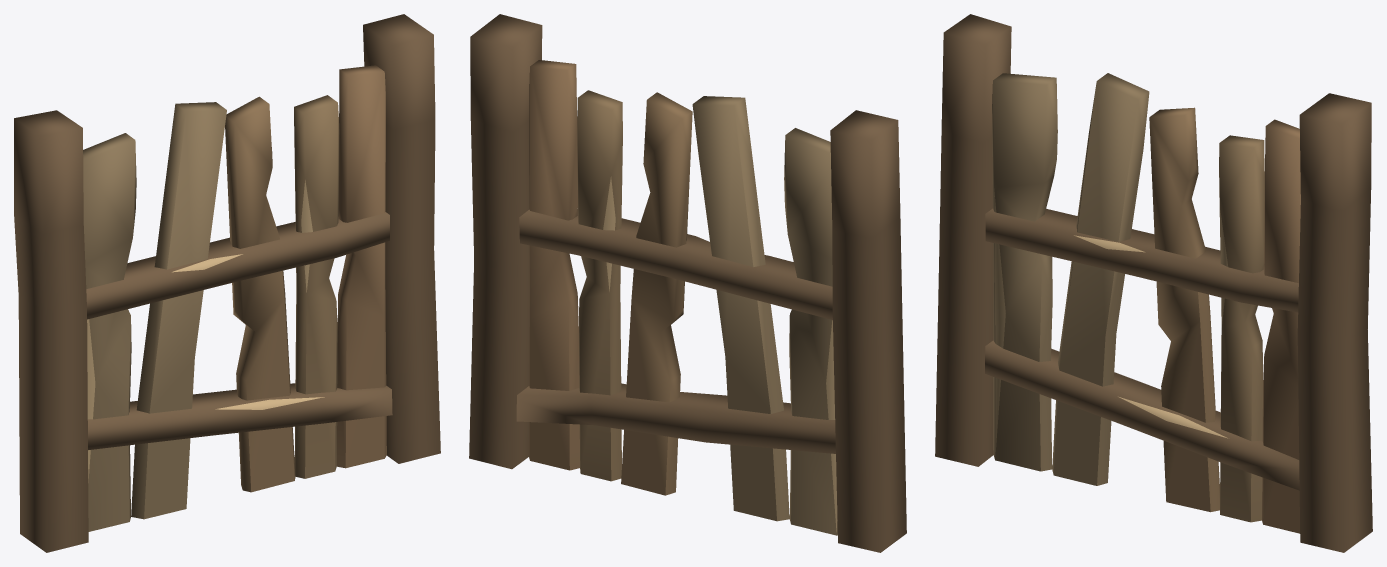
The model's file is rpgpp_av_fence_03c_2m.gltf.
3 views of the same model, side by side, from view 1: azimuth 30°, elevation 25°; view 2: azimuth 150°, elevation 25°; view 3: azimuth 330°, elevation 25° (orthographic).
Visible parts, largest first — view 1: rpgpp_av_fence_03c_2m; view 2: rpgpp_av_fence_03c_2m; view 3: rpgpp_av_fence_03c_2m.
Boxes of the visible parts, x1=… form: rpgpp_av_fence_03c_2m: x1=14, y1=14, x2=440, y2=552; rpgpp_av_fence_03c_2m: x1=469, y1=14, x2=906, y2=552; rpgpp_av_fence_03c_2m: x1=935, y1=14, x2=1372, y2=552.
Bounding box in the file's own units: 0.0217 × 0.0217 × 0.00334.
Materials: 1 (1 with a texture image).
